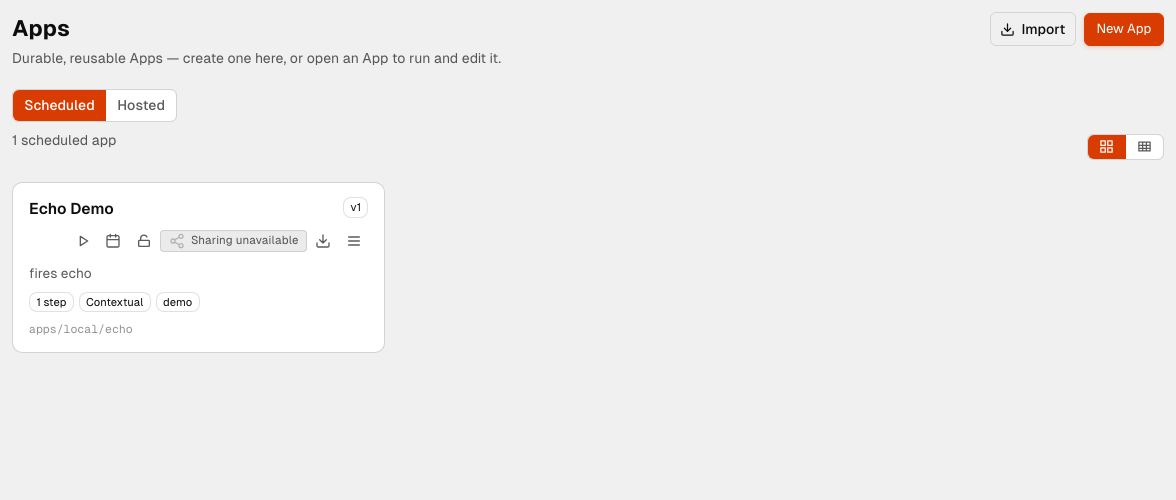
Test: Apps section (catalog + POC-5a New App) › renders saved Apps as cards with Run + a kebab menu (Open/Inspect/Download/Duplicate)
Check: the element with test id "app-card-apps/local/echo" is shown, box [12,182,385,353]
Check: the button with test id "app-run-apps/local/echo" is shown, box [68,226,97,256]
Click the button with test id "app-menu-apps/local/echo" at (354, 241), box [339,226,368,256]
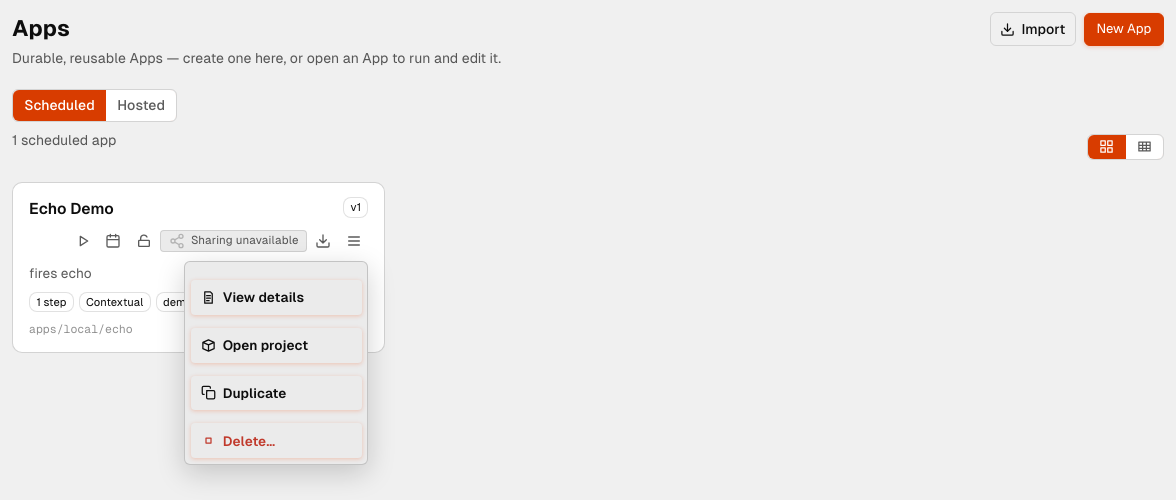
Check: the menu item with test id "app-view-apps/local/echo" is shown, box [191,280,362,315]
Check: the menu item with test id "app-open-apps/local/echo" is shown, box [191,328,362,363]
Check: the menu item with test id "app-duplicate-apps/local/echo" is shown, box [191,376,362,410]
